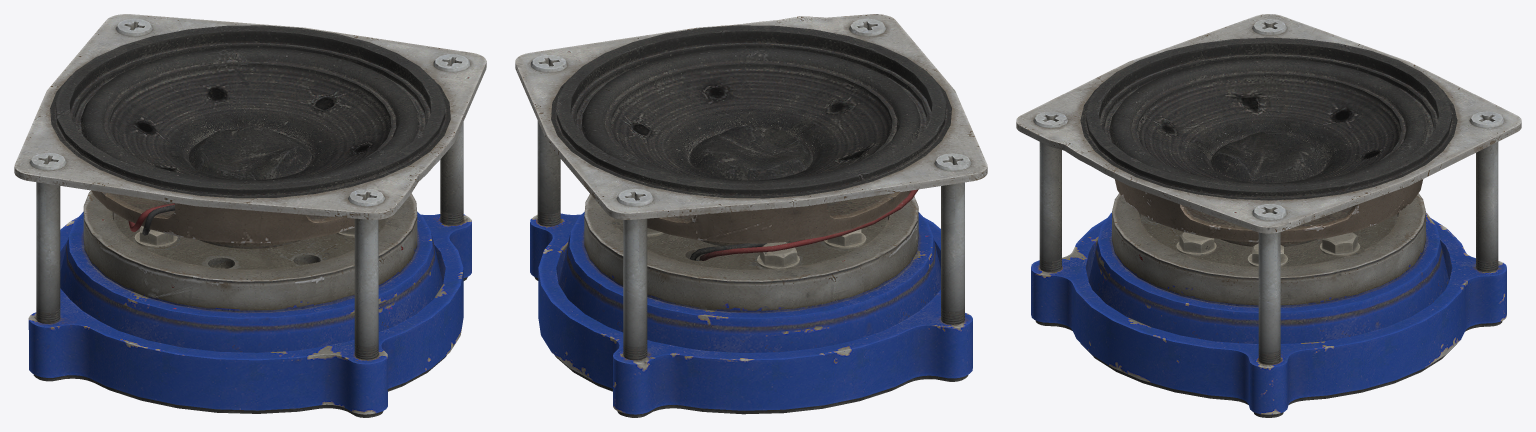
The model's file is emitter_speaker.fbx.
3 views of the same model, side by side, from view 1: azimuth 30°, elevation 25°; view 2: azimuth 150°, elevation 25°; view 3: azimuth 270°, elevation 25° (orthographic). The views are drawn at different scales.
Parts seen in each view (by area): view 1: emitter_speaker_LOD0; view 2: emitter_speaker_LOD0; view 3: emitter_speaker_LOD0.
Boxes of the visible parts, bbox=[...] form: emitter_speaker_LOD0: bbox=[14, 14, 486, 417]; emitter_speaker_LOD0: bbox=[515, 14, 987, 417]; emitter_speaker_LOD0: bbox=[1016, 14, 1521, 417].
Size of what is drawn, in the model's own units: 7.11 by 7.11 by 3.18.
1 material, 1 textured.
